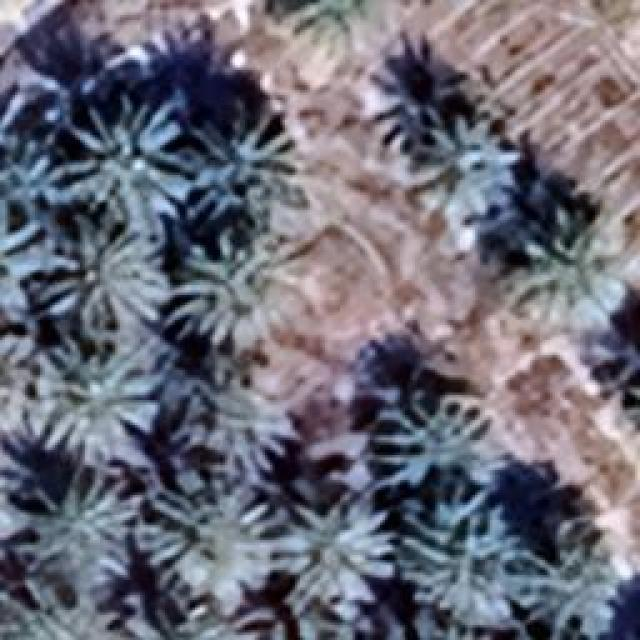PalmTree: (390, 488, 542, 622), (134, 467, 288, 595), (28, 328, 162, 462), (170, 108, 308, 228), (8, 467, 142, 585), (35, 210, 170, 325), (270, 492, 400, 608), (508, 208, 628, 332), (162, 230, 282, 352), (375, 390, 503, 490), (408, 107, 520, 220), (171, 364, 284, 466), (66, 110, 172, 212), (534, 544, 616, 626), (128, 32, 333, 64), (1, 119, 66, 214), (0, 590, 112, 640), (120, 600, 255, 638), (1, 209, 39, 319), (280, 605, 395, 640), (0, 327, 31, 441), (128, 19, 301, 38), (372, 619, 508, 640), (0, 443, 23, 567), (386, 624, 520, 640), (624, 355, 640, 458), (629, 357, 640, 457)
